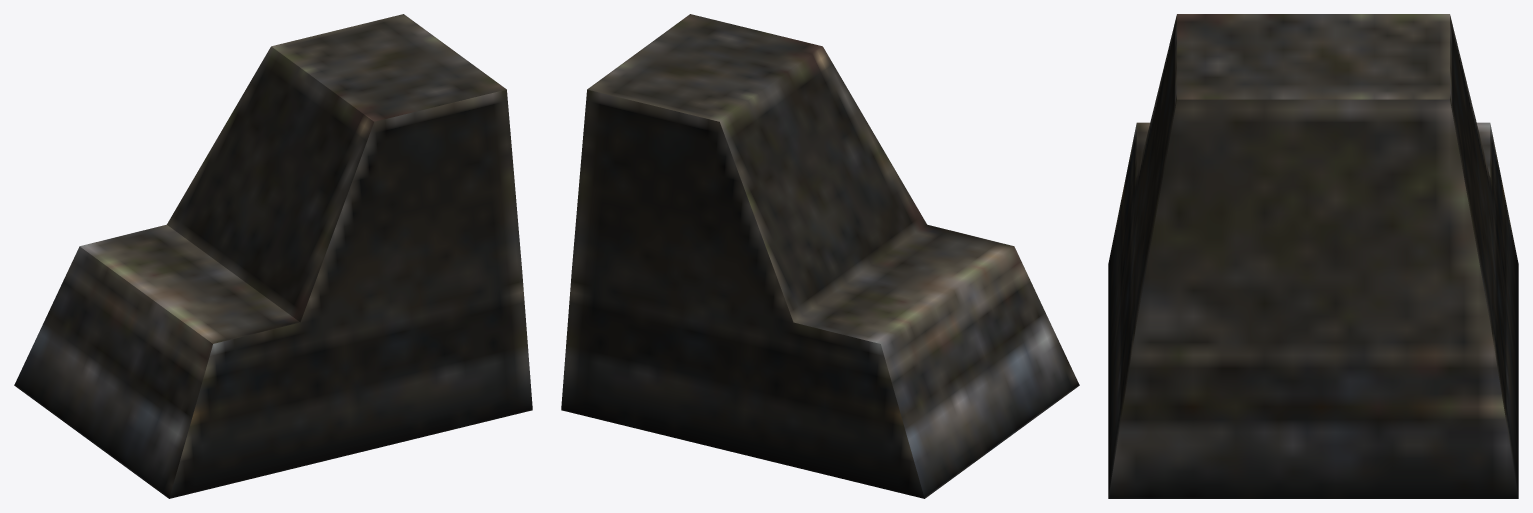
The picture shows the model from 3 angles, left to right: view 1: azimuth 30°, elevation 25°; view 2: azimuth 150°, elevation 25°; view 3: azimuth 270°, elevation 25°; orthographic projection. The views are drawn at different scales.
Parts seen in each view (by area): view 1: wj84; view 2: wj84; view 3: wj84.
Part boxes in pixels (x1=…): wj84: x1=14, y1=14, x2=532, y2=498; wj84: x1=561, y1=14, x2=1079, y2=498; wj84: x1=1108, y1=14, x2=1518, y2=498.
Bounding box in the file's own units: 787 × 624 × 581.
